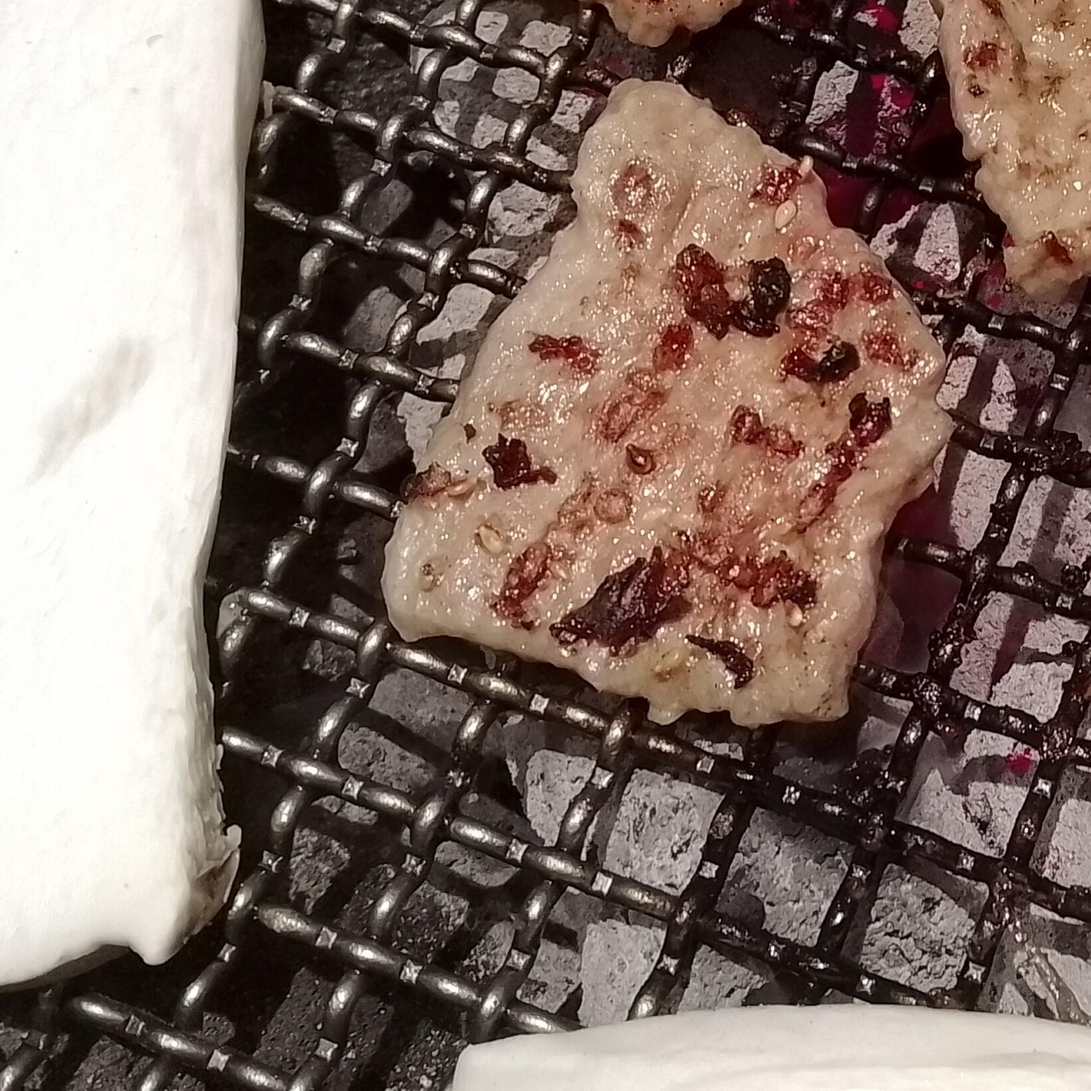Overcooked: (381, 80, 949, 732)
Well-Cooked: (929, 0, 1090, 302)
